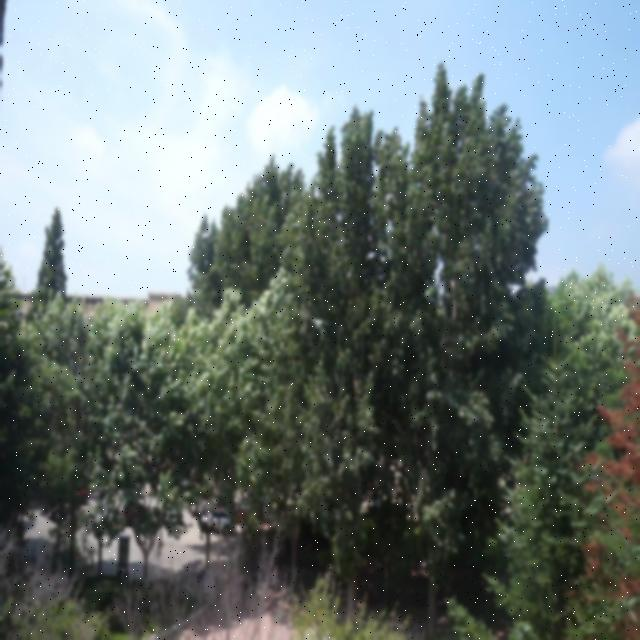UAV: (311, 319, 324, 328)
